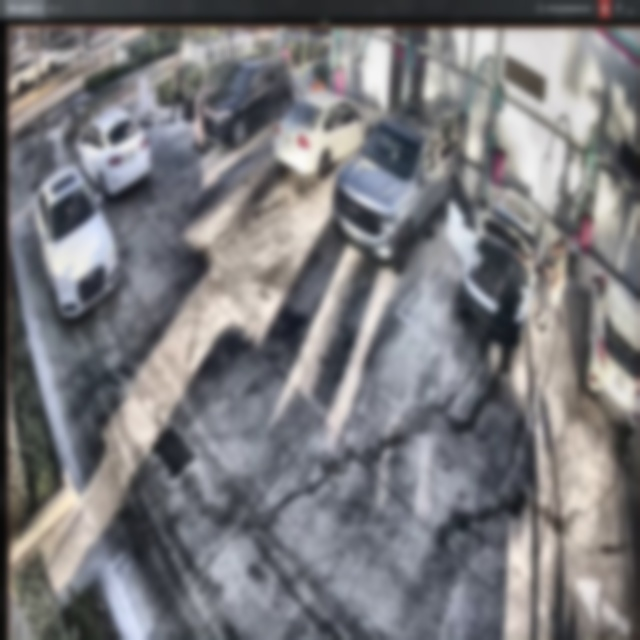Car: (336, 98, 462, 272), (456, 185, 547, 349), (276, 90, 373, 175), (77, 107, 151, 196)
